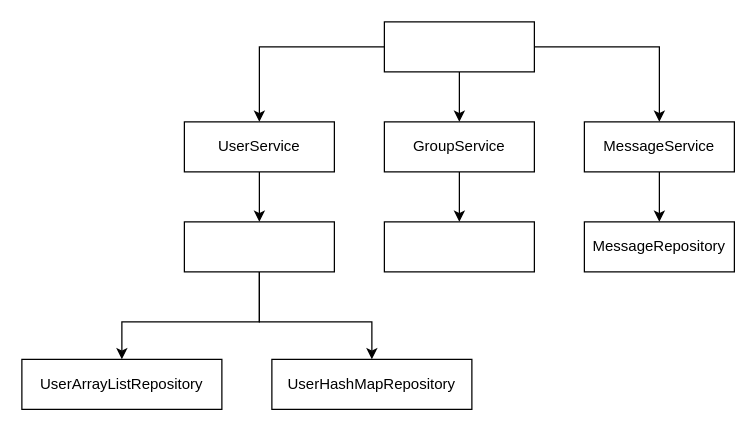
Some shapes in this 756 by 431 pixel diagram are drawn without their labels. The centre of each missing label's shape, as x and y in pixels:
Application: point (458, 46)
GroupRepository: point (458, 246)
UserRepository: point (258, 246)
